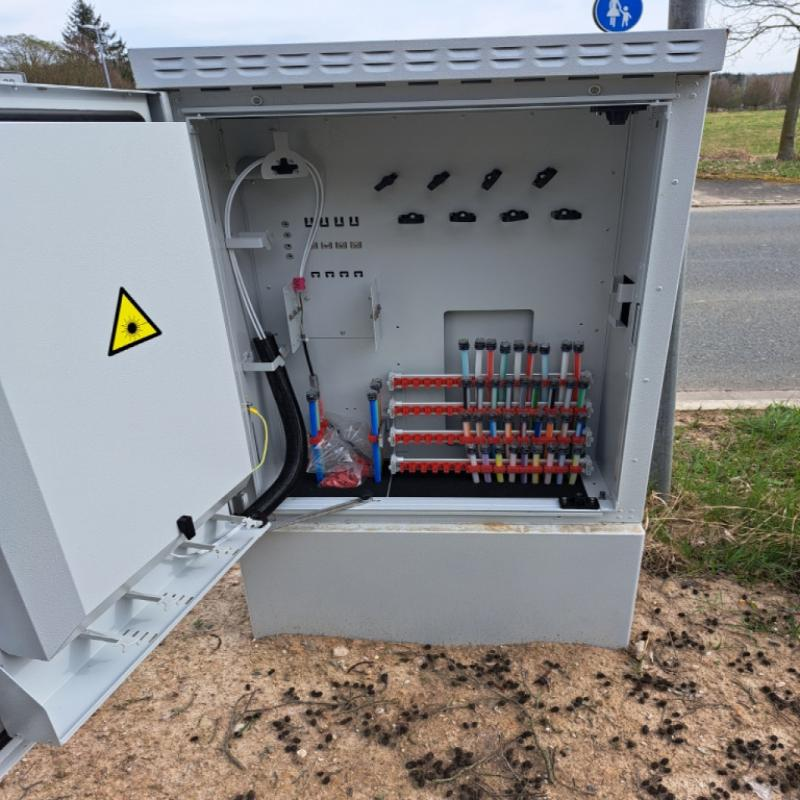NT-Gehause: (10, 27, 725, 779)
